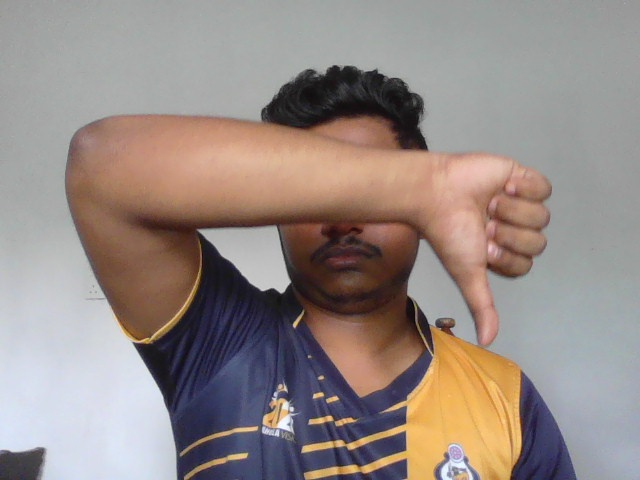Disagree: (429, 152, 554, 348)
